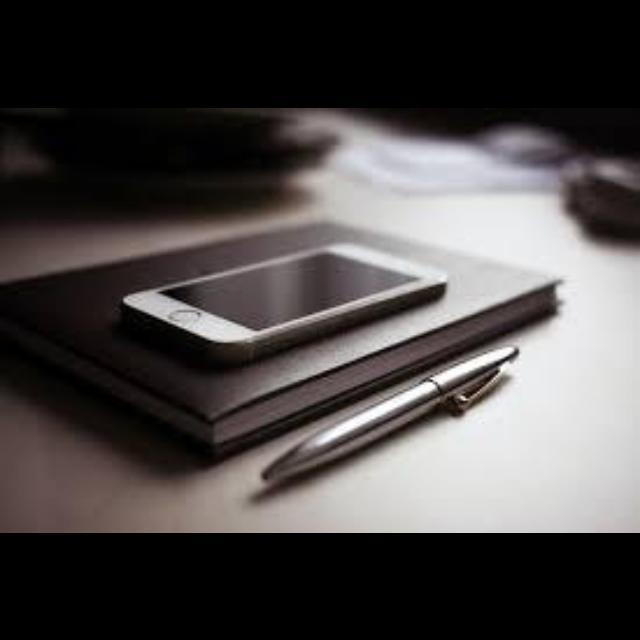phone: (91, 226, 468, 366)
